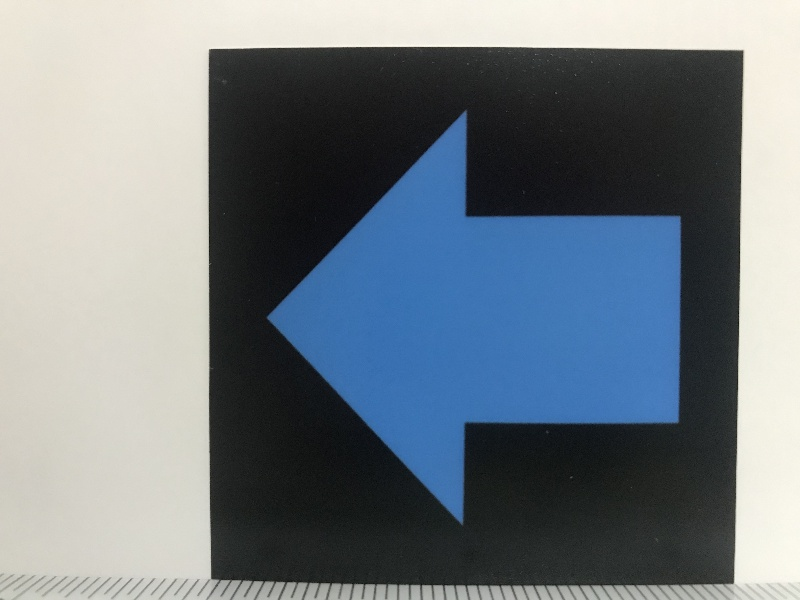LA-4: (213, 52, 734, 582)
